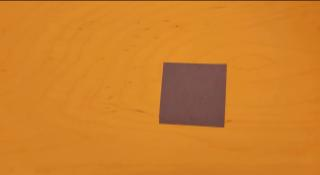Square: (158, 61, 227, 127)
